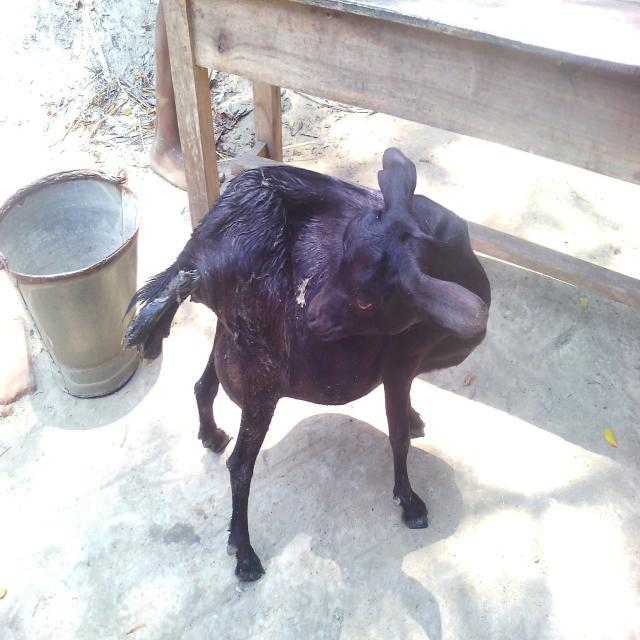Goat: (121, 146, 492, 582)
